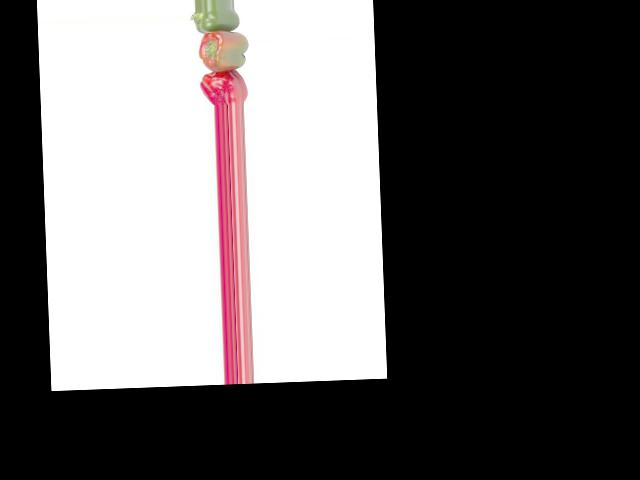bell_pepper: (195, 68, 250, 105)
